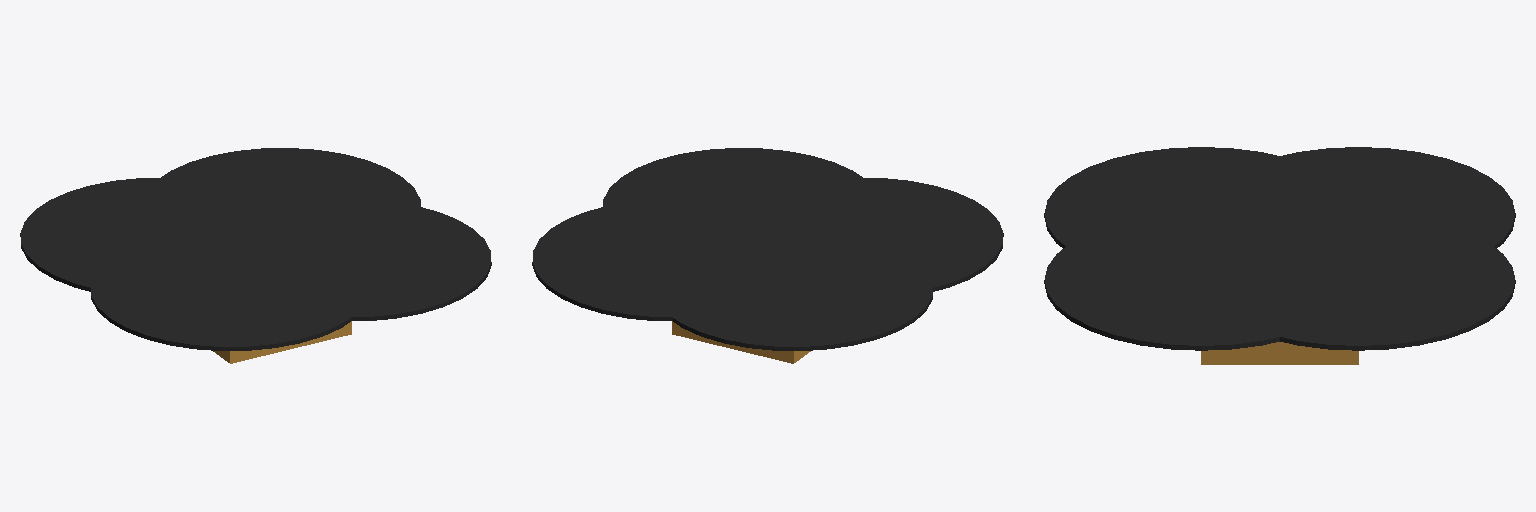
The robot description file, URDF, robot "simple_rotorcraft":
<?xml version="1.0" encoding="UTF-8"?>
<!-- Ingenuity-class rotorcraft for perception pipeline validation.
     Box body + 4 rotor disks. Phase 1: kinematic only, no flight dynamics.
     Mass: 1.8kg (Ingenuity actual mass). -->
<robot name="simple_rotorcraft">

  <!-- Body -->
  <link name="base_link">
    <visual>
      <geometry>
        <box size="0.3 0.3 0.15"/>
      </geometry>
      <material name="body_color">
        <color rgba="0.8 0.6 0.3 1.0"/>
      </material>
    </visual>
    <collision>
      <geometry>
        <box size="0.3 0.3 0.15"/>
      </geometry>
    </collision>
    <inertial>
      <mass value="1.8"/>
      <inertia ixx="0.012" ixy="0" ixz="0" iyy="0.012" iyz="0" izz="0.018"/>
    </inertial>
  </link>

  <!-- Rotor 1 (front-left) -->
  <link name="rotor_fl">
    <visual>
      <geometry><cylinder radius="0.3" length="0.01"/></geometry>
      <material name="rotor_color"><color rgba="0.2 0.2 0.2 0.5"/></material>
    </visual>
    <collision>
      <geometry><cylinder radius="0.3" length="0.01"/></geometry>
    </collision>
    <inertial>
      <mass value="0.02"/>
      <inertia ixx="0.0005" ixy="0" ixz="0" iyy="0.0005" iyz="0" izz="0.0009"/>
    </inertial>
  </link>
  <joint name="joint_rotor_fl" type="fixed">
    <parent link="base_link"/>
    <child link="rotor_fl"/>
    <origin xyz="0.15 0.15 0.1" rpy="0 0 0"/>
  </joint>

  <!-- Rotor 2 (front-right) -->
  <link name="rotor_fr">
    <visual>
      <geometry><cylinder radius="0.3" length="0.01"/></geometry>
      <material name="rotor_color"><color rgba="0.2 0.2 0.2 0.5"/></material>
    </visual>
    <collision>
      <geometry><cylinder radius="0.3" length="0.01"/></geometry>
    </collision>
    <inertial>
      <mass value="0.02"/>
      <inertia ixx="0.0005" ixy="0" ixz="0" iyy="0.0005" iyz="0" izz="0.0009"/>
    </inertial>
  </link>
  <joint name="joint_rotor_fr" type="fixed">
    <parent link="base_link"/>
    <child link="rotor_fr"/>
    <origin xyz="0.15 -0.15 0.1" rpy="0 0 0"/>
  </joint>

  <!-- Rotor 3 (rear-left) -->
  <link name="rotor_rl">
    <visual>
      <geometry><cylinder radius="0.3" length="0.01"/></geometry>
      <material name="rotor_color"><color rgba="0.2 0.2 0.2 0.5"/></material>
    </visual>
    <collision>
      <geometry><cylinder radius="0.3" length="0.01"/></geometry>
    </collision>
    <inertial>
      <mass value="0.02"/>
      <inertia ixx="0.0005" ixy="0" ixz="0" iyy="0.0005" iyz="0" izz="0.0009"/>
    </inertial>
  </link>
  <joint name="joint_rotor_rl" type="fixed">
    <parent link="base_link"/>
    <child link="rotor_rl"/>
    <origin xyz="-0.15 0.15 0.1" rpy="0 0 0"/>
  </joint>

  <!-- Rotor 4 (rear-right) -->
  <link name="rotor_rr">
    <visual>
      <geometry><cylinder radius="0.3" length="0.01"/></geometry>
      <material name="rotor_color"><color rgba="0.2 0.2 0.2 0.5"/></material>
    </visual>
    <collision>
      <geometry><cylinder radius="0.3" length="0.01"/></geometry>
    </collision>
    <inertial>
      <mass value="0.02"/>
      <inertia ixx="0.0005" ixy="0" ixz="0" iyy="0.0005" iyz="0" izz="0.0009"/>
    </inertial>
  </link>
  <joint name="joint_rotor_rr" type="fixed">
    <parent link="base_link"/>
    <child link="rotor_rr"/>
    <origin xyz="-0.15 -0.15 0.1" rpy="0 0 0"/>
  </joint>

</robot>

--- Render facts (derived) ---
The picture shows the robot from 3 angles, left to right: view 1: azimuth 30°, elevation 25°; view 2: azimuth 150°, elevation 25°; view 3: azimuth 270°, elevation 25°; orthographic projection.
Robot: simple_rotorcraft — 5 links, 4 joints (4 fixed); root link base_link; default pose: all joints at 0.
Visible links, largest first — view 1: rotor_fl, rotor_rl, rotor_fr, rotor_rr, base_link; view 2: rotor_fr, rotor_fl, rotor_rr, rotor_rl, base_link; view 3: rotor_fl, rotor_fr, rotor_rl, rotor_rr, base_link.
Boxes of the visible links, box(x1,y1,x2,y2) form: rotor_fl: box(142, 148, 420, 265); rotor_rl: box(20, 178, 296, 295); rotor_fr: box(212, 205, 491, 320); rotor_rr: box(91, 229, 369, 350); base_link: box(213, 321, 351, 363); rotor_fr: box(603, 148, 881, 265); rotor_fl: box(532, 203, 811, 320); rotor_rr: box(733, 178, 1003, 295); rotor_rl: box(654, 229, 932, 350); base_link: box(672, 321, 810, 363); rotor_fl: box(1202, 213, 1515, 350); rotor_fr: box(1044, 213, 1357, 350); rotor_rl: box(1202, 147, 1515, 279); rotor_rr: box(1044, 147, 1357, 279); base_link: box(1201, 342, 1358, 364).
Size in the robot's own frame: 0.9 by 0.9 by 0.18 metres.
Geometry: primitives only (box / cylinder / sphere), no mesh files.
